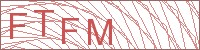F: (8, 11, 29, 41), (59, 16, 80, 46)
M: (84, 17, 117, 47)
T: (31, 8, 56, 39)
